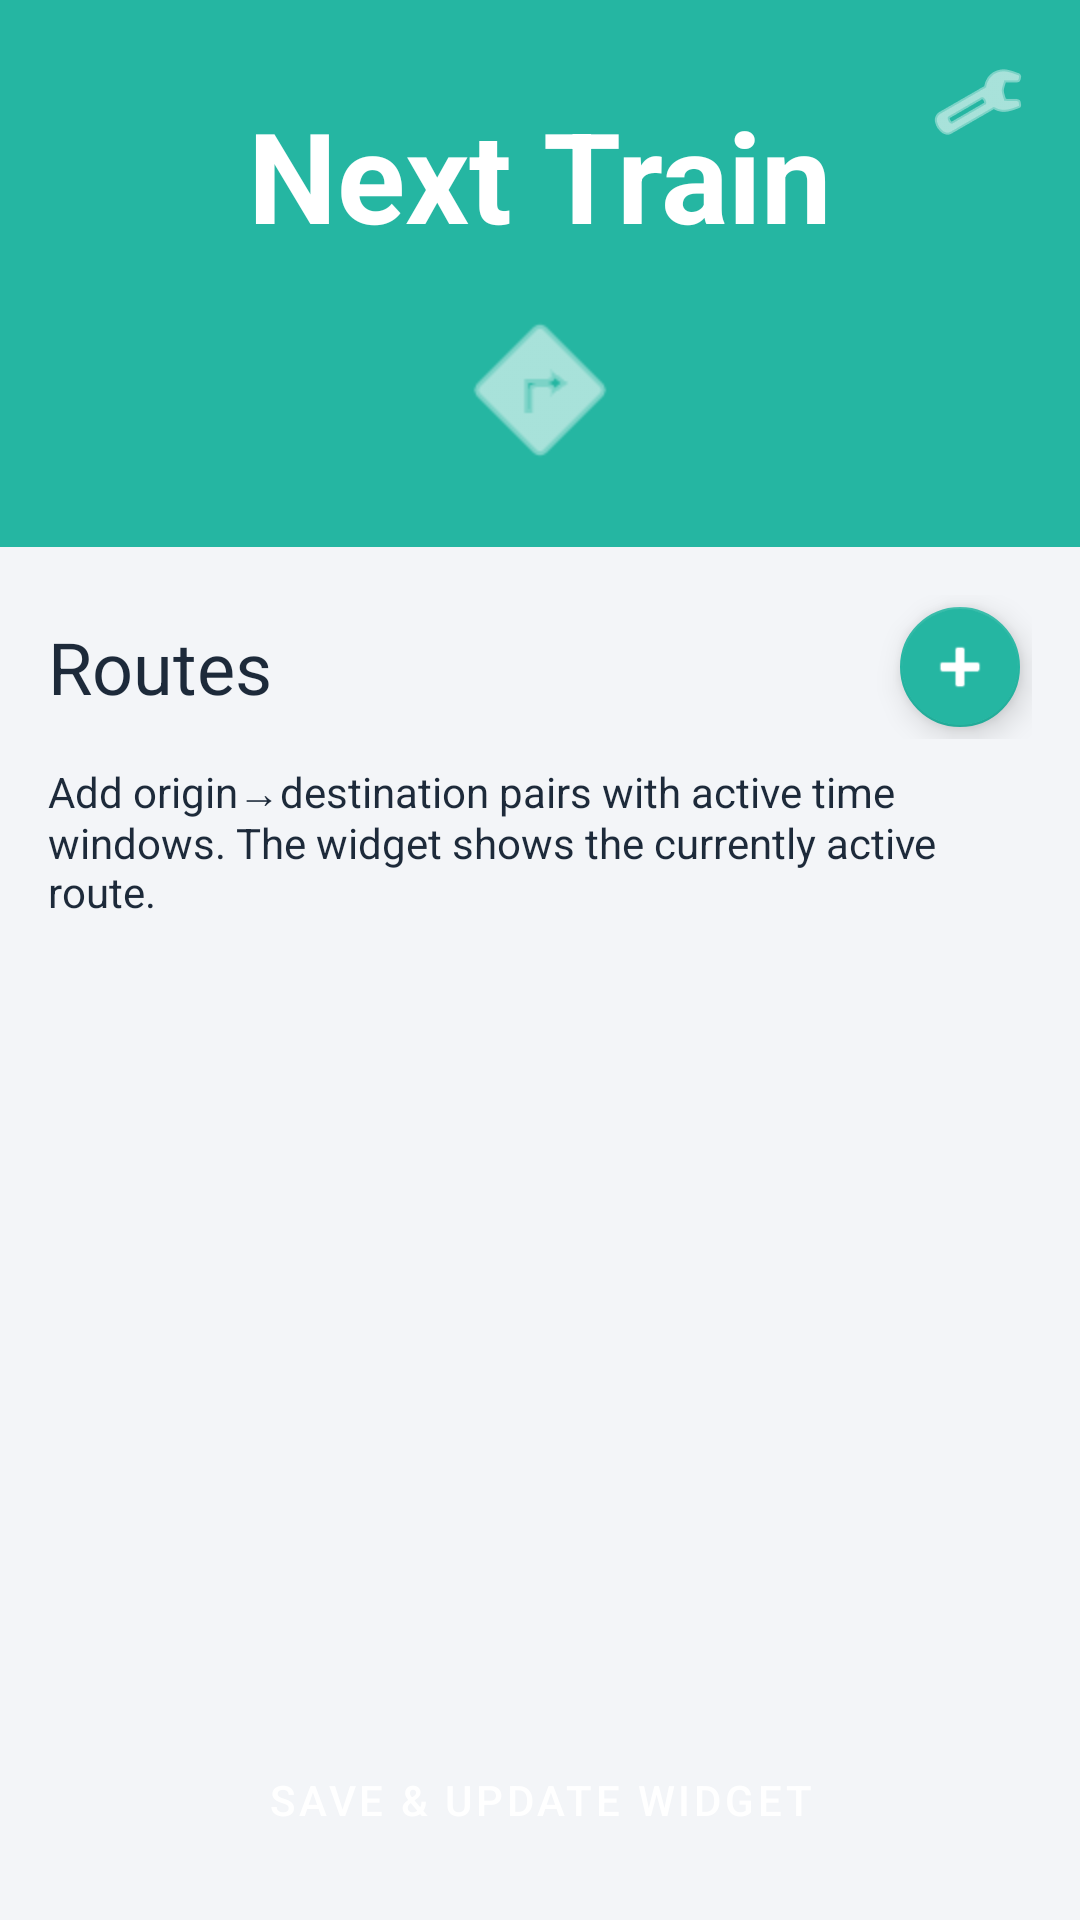

Where icons sit on this 1080 x 1920 app screen, as (x1, y1, x2, y2):
Settings: (935, 69, 1021, 135)
